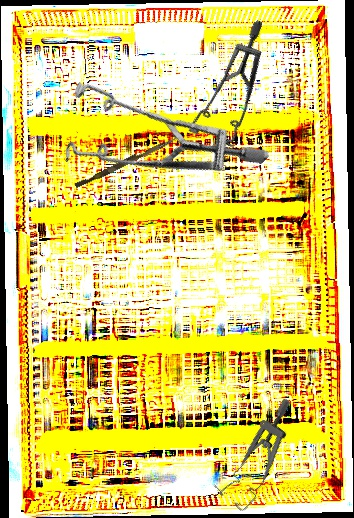Pusher: (74, 133, 178, 191)
Speculum: (33, 22, 273, 261), (159, 19, 311, 163), (204, 396, 321, 515)
